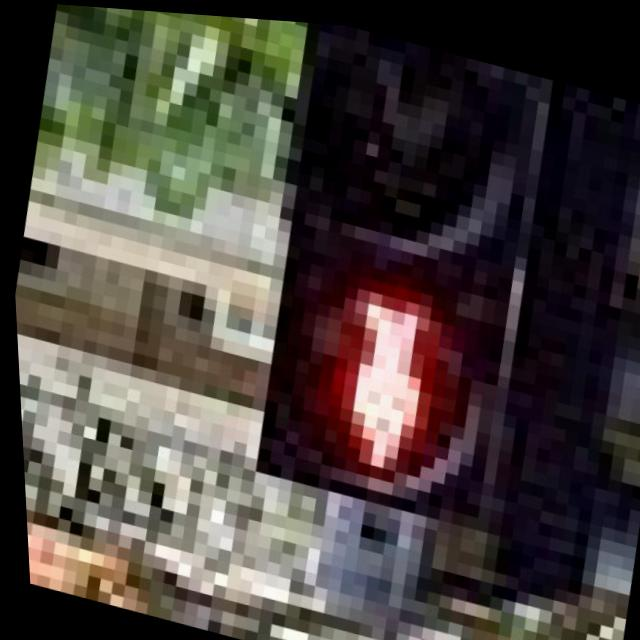red_light: (266, 268, 460, 512)
